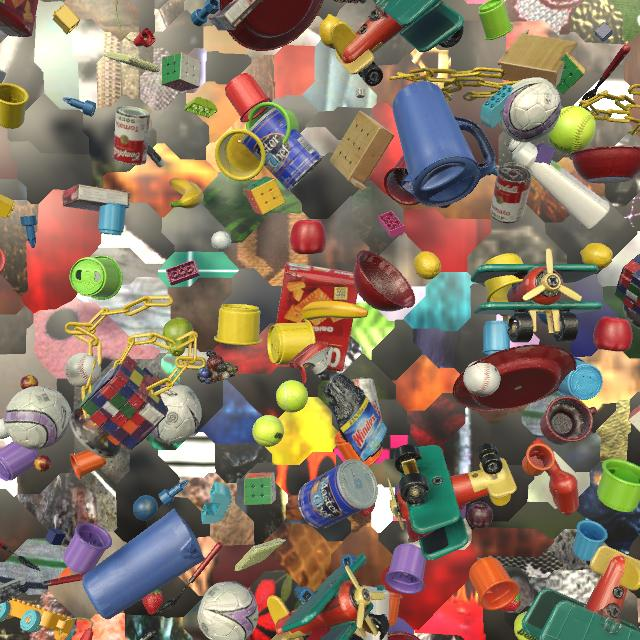ycb_002_master_chef_can: (241, 107, 323, 191), (298, 459, 378, 529)
ycb_003_cracker_box: (276, 262, 358, 372), (0, 0, 38, 37), (306, 627, 330, 640)
ycb_004_sugar_box: (0, 70, 6, 83), (0, 582, 3, 585)
ycb_005_tomato_soup_can: (490, 162, 533, 223), (113, 106, 150, 165), (351, 377, 383, 423)
ycb_008_pudding_box: (63, 184, 130, 212), (208, 0, 263, 31)
ycb_011_banana: (302, 301, 368, 320), (169, 178, 204, 208)
ycb_012_strawberry: (142, 589, 163, 615), (500, 593, 521, 611), (359, 503, 375, 516)
ycb_013_apple: (593, 316, 632, 352), (290, 220, 326, 254)
ycb_014_lemon: (580, 243, 613, 270), (414, 251, 441, 280), (319, 14, 341, 49)
ycb_016_pear: (162, 317, 194, 357)
ycb_018_plum: (467, 502, 493, 529)
